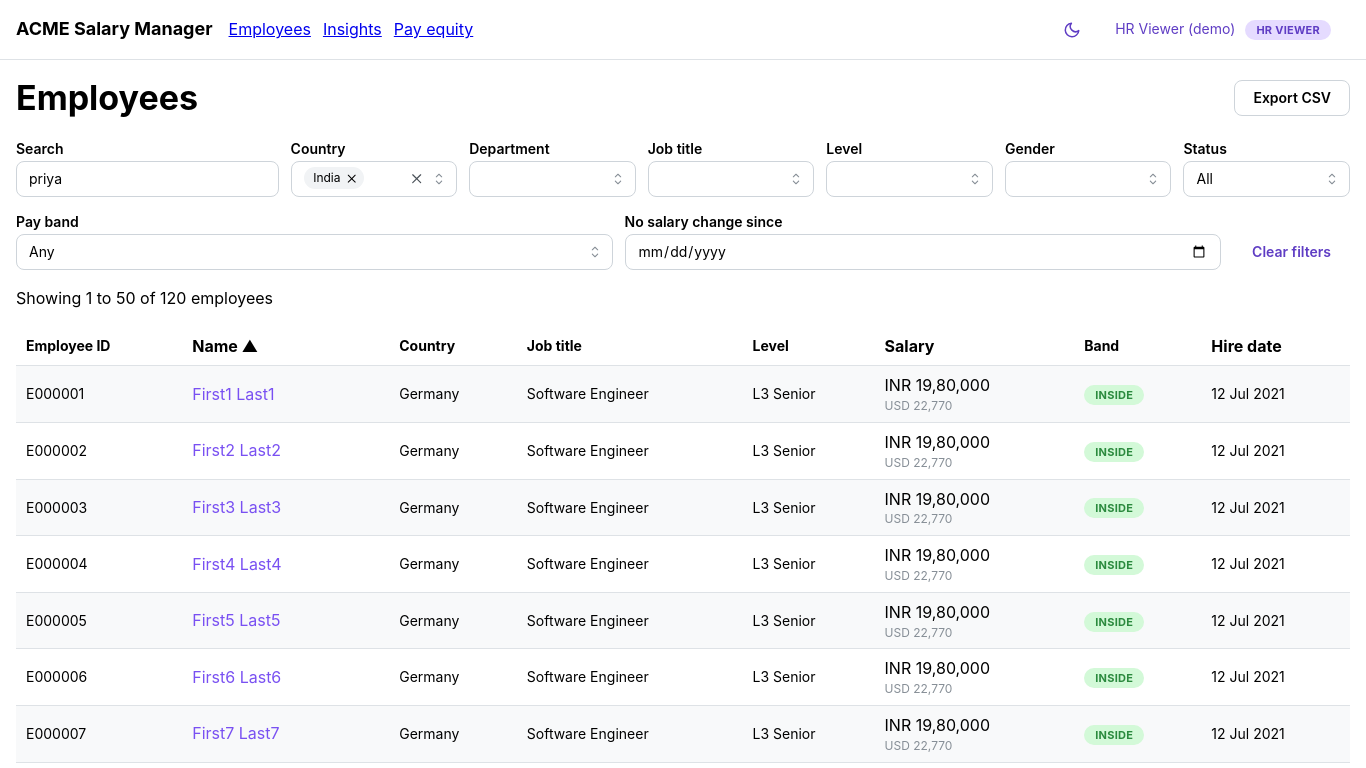
Scenario: employee list filters (04 sections 8.3 and 8.5) › "Clear filters" removes every filter and the search text
This screenshot has width=1366, height=768.
Step 1. Click the button "Clear filters" → (1292, 252), box [1233,234,1350,270]
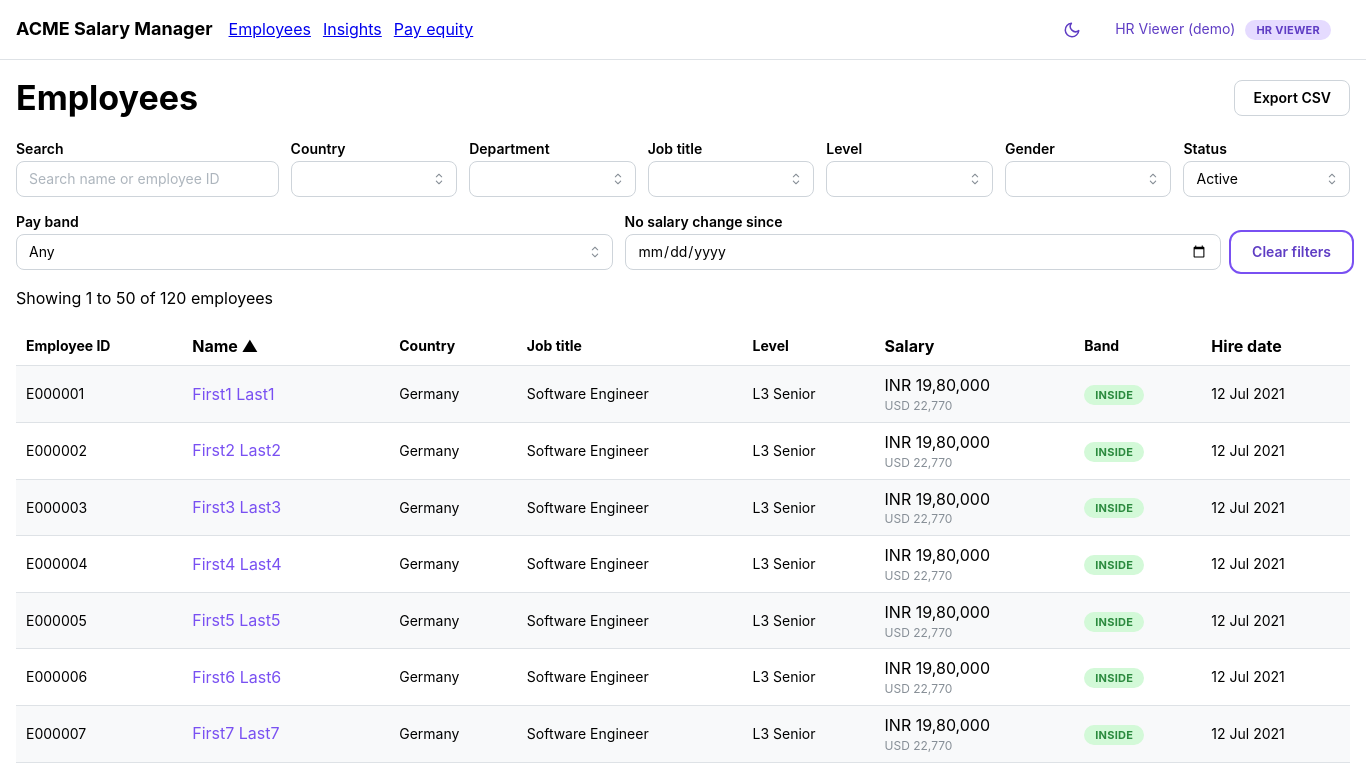
Now the field with placeholder "Search name or employee ID" is empty, box [16,161,279,197]
Now the text "India" is gone
